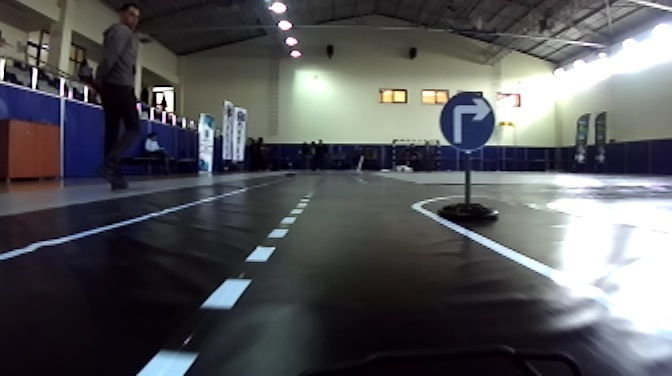saga_donus: (437, 92, 495, 151)
